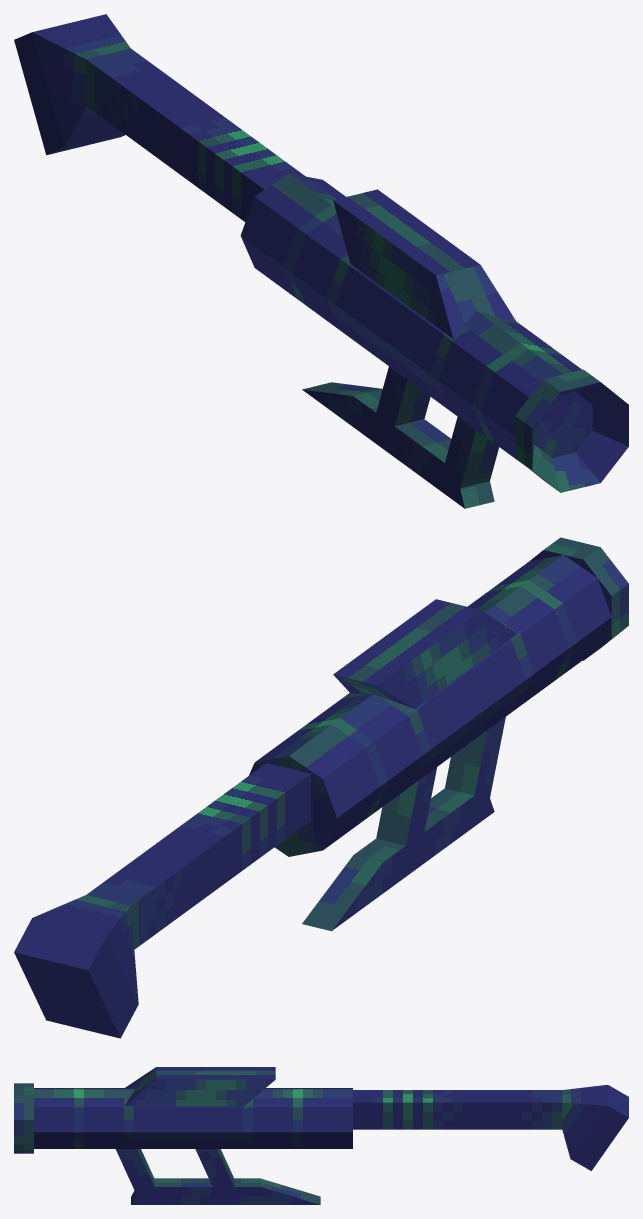
3 views of the same model, one above another, from view 1: azimuth 30°, elevation 25°; view 2: azimuth 150°, elevation 25°; view 3: azimuth 270°, elevation 25° (orthographic). The views are drawn at different scales.
Visible parts, largest first — view 1: cuboid (×5), cylinder (×2); view 2: cuboid (×5), cylinder (×2); view 3: cuboid (×5), cylinder (×2).
Boxes of the visible parts, x1=… form: cuboid (×5): x1=14, y1=14, x2=517, y2=508; cylinder (×2): x1=240, y1=173, x2=628, y2=492; cuboid (×5): x1=14, y1=599, x2=517, y2=1038; cylinder (×2): x1=249, y1=537, x2=628, y2=856; cuboid (×5): x1=115, y1=1067, x2=628, y2=1204; cylinder (×2): x1=14, y1=1083, x2=352, y2=1153.
Size of the model in its own units: 0.4062 by 0.8813 by 3.86.
Materials: 1 (1 with a texture image).
